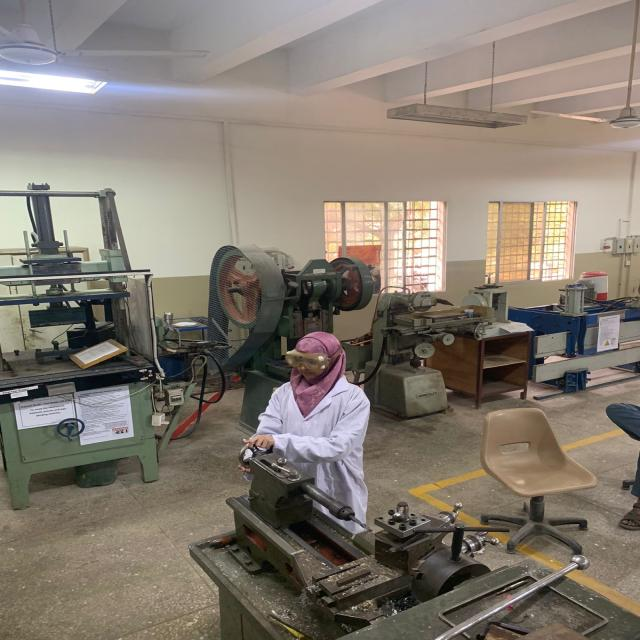googles: (284, 350, 329, 373)
labcoat: (246, 372, 374, 538)
